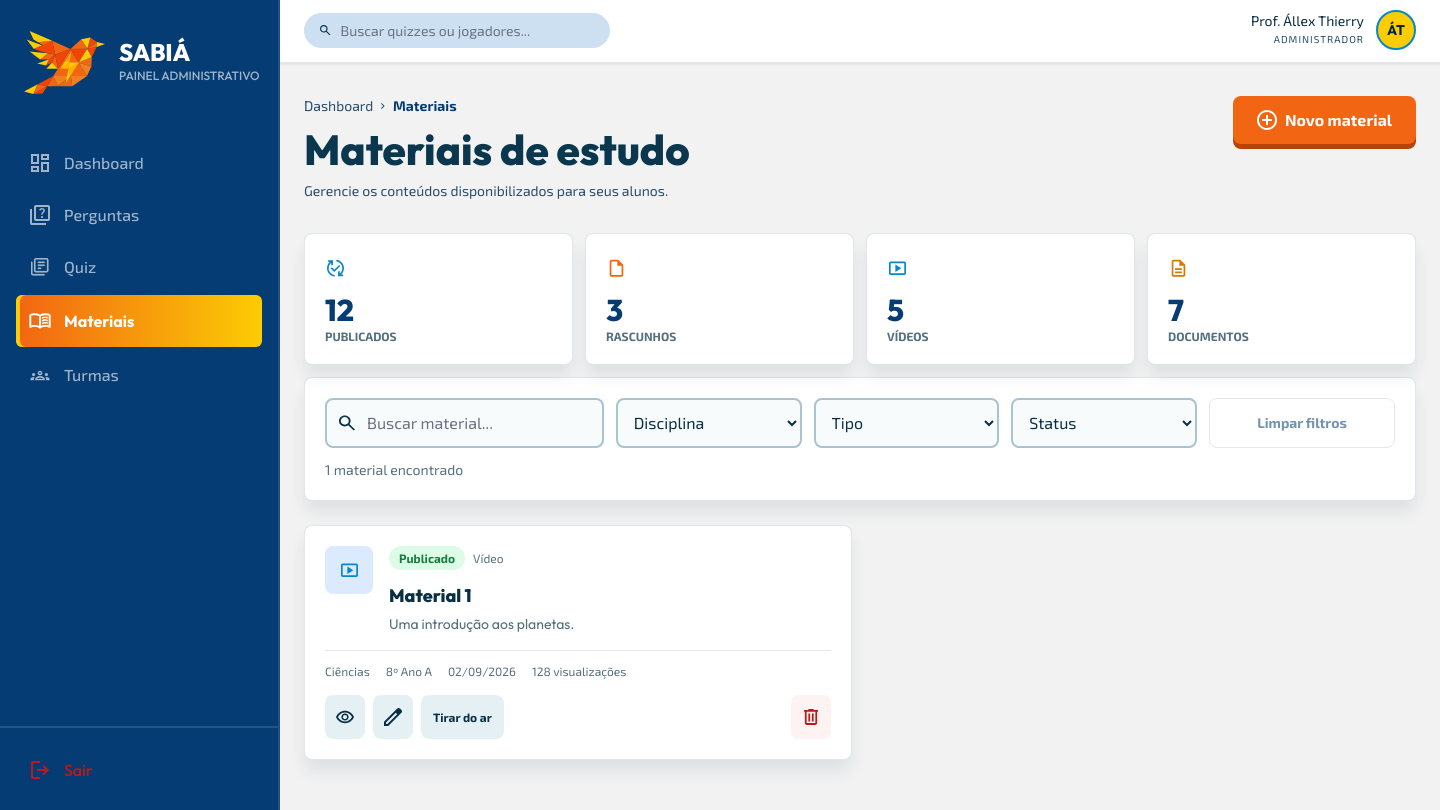
Test: Materiais de estudo (professor) › exclui com confirmação
Click the button named "Excluir: Material 1": (811, 717) top-left (791, 695), bottom-right (831, 739)
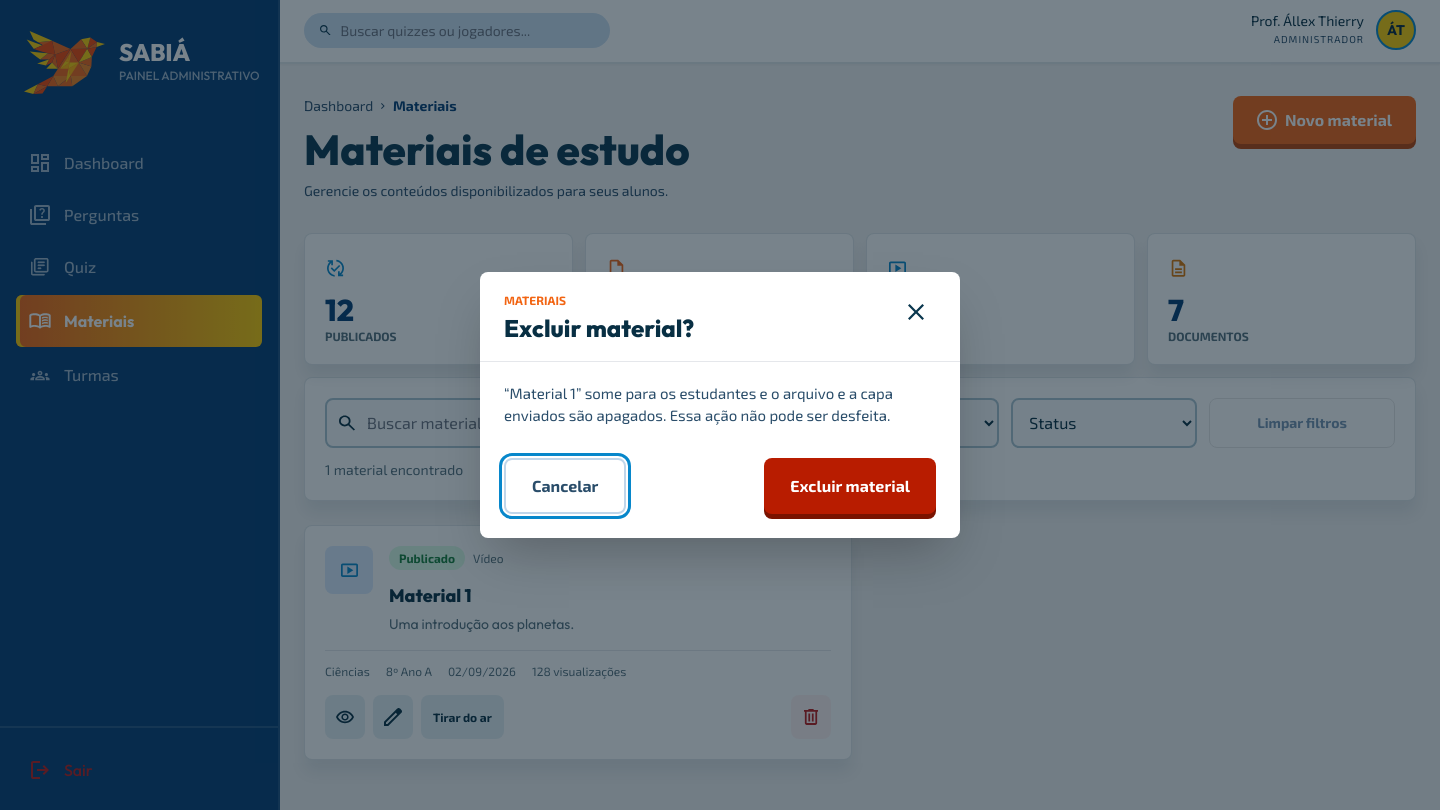
Click the button "Excluir material": (850, 486) top-left (764, 458), bottom-right (936, 514)
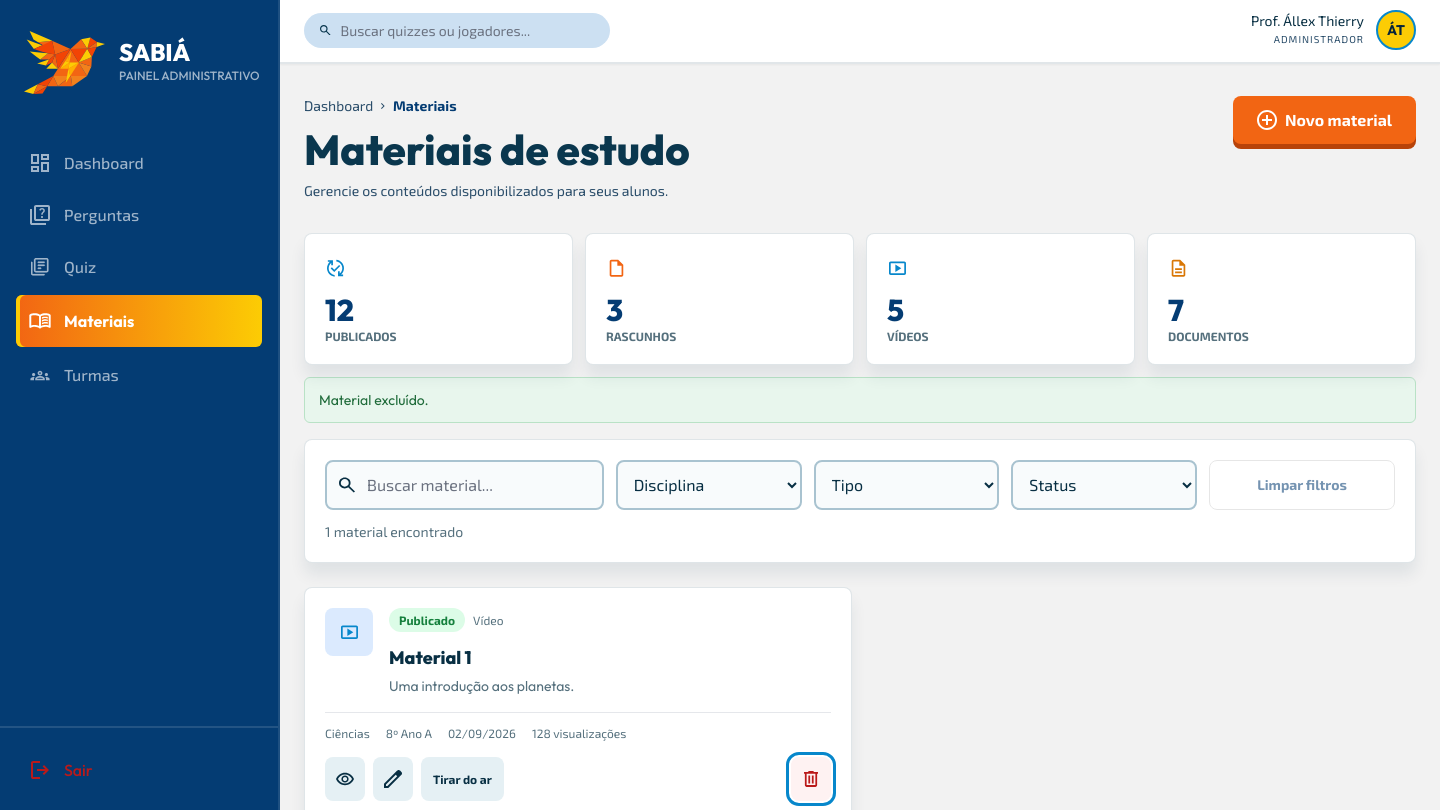
Expected: the text "Material excluído." is shown, top-left (304, 377), bottom-right (1416, 423)
